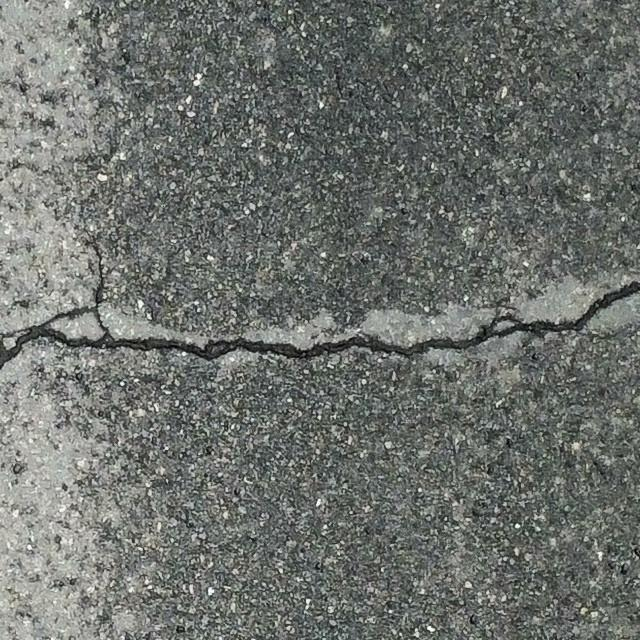TransverseCrack: (1, 278, 640, 368)
